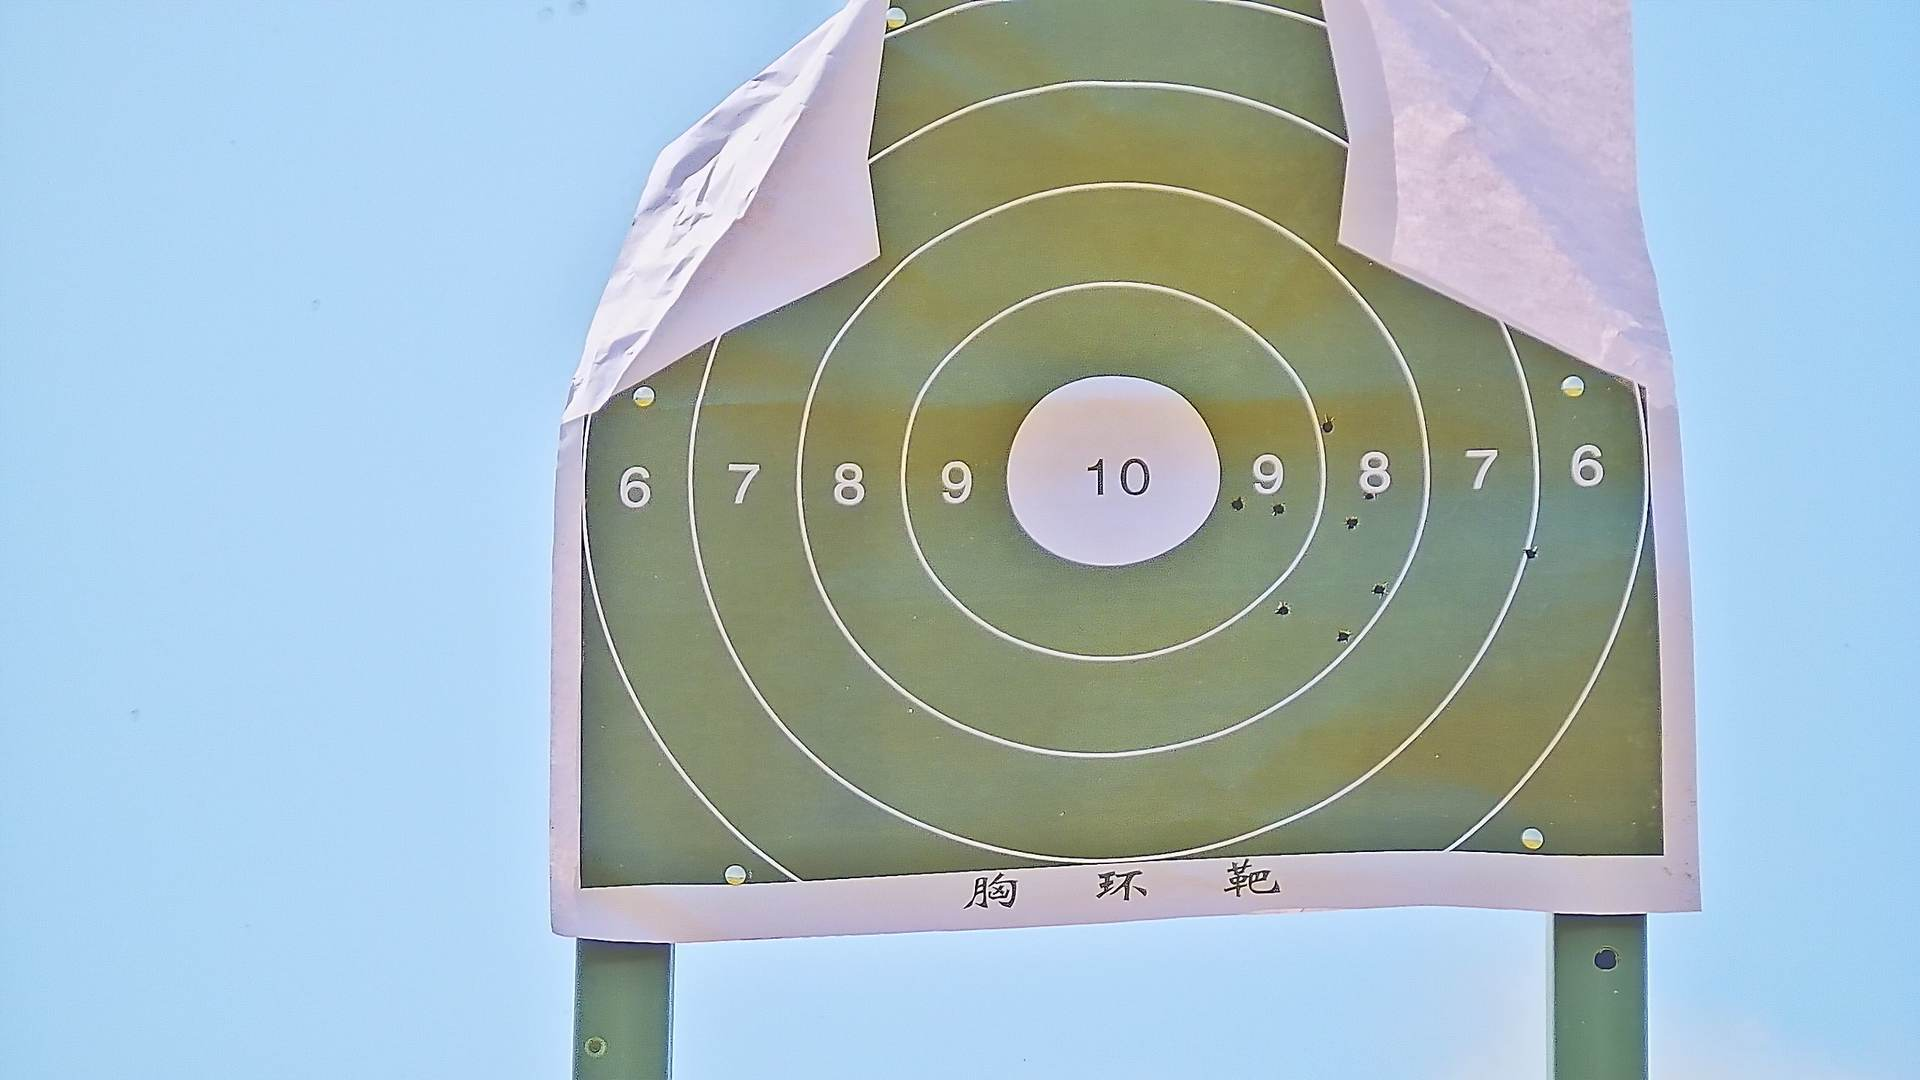hole: (1371, 582, 1387, 596), (1524, 546, 1540, 560), (1337, 629, 1352, 644), (1271, 498, 1284, 514), (1232, 495, 1244, 512), (1323, 418, 1335, 435), (1362, 489, 1377, 502), (1345, 513, 1357, 529), (1276, 603, 1288, 615)
kernel: (1113, 476, 1117, 477)
target: (584, 5, 1658, 882)
ten: (1002, 369, 1218, 567)
